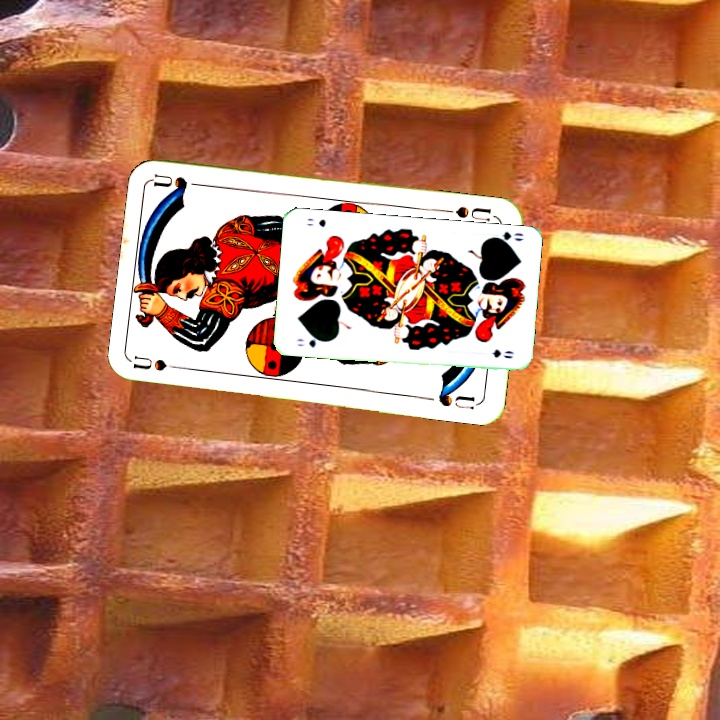GO: (485, 227, 526, 247), (292, 333, 329, 350)
SU: (131, 352, 191, 374), (451, 202, 494, 224)
